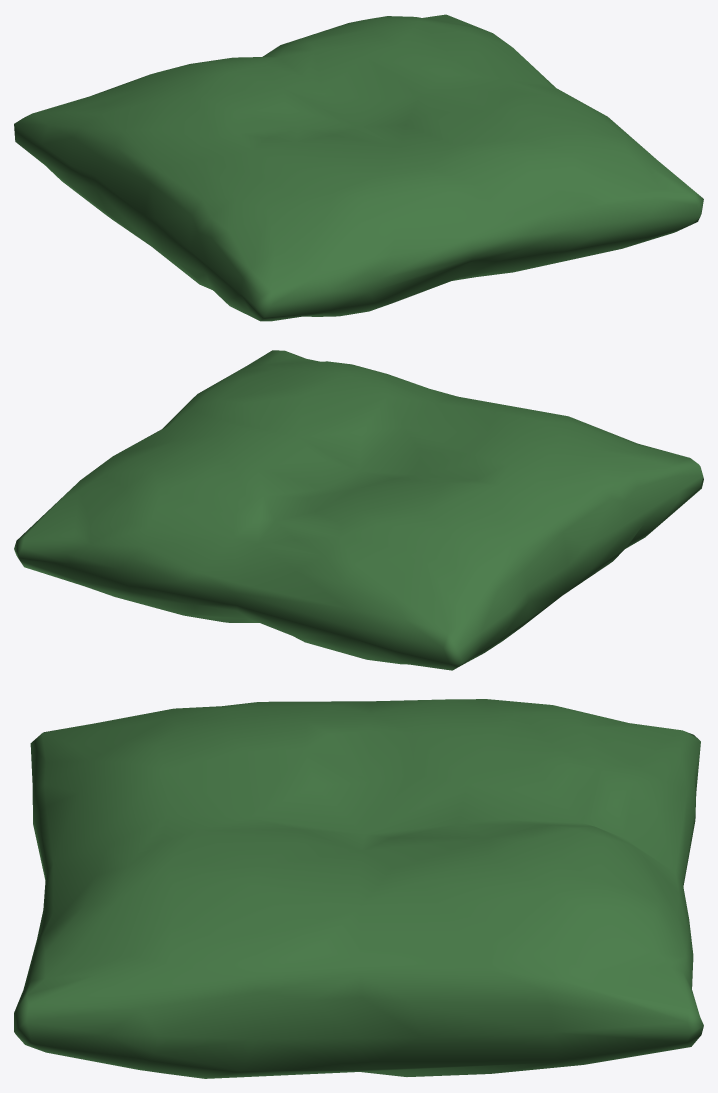
The model's file is SM_Bed_02b.fbx.
3 views of the same model, one above another, from view 1: azimuth 30°, elevation 25°; view 2: azimuth 150°, elevation 25°; view 3: azimuth 270°, elevation 25° (orthographic). The views are drawn at different scales.
Parts seen in each view (by area): view 1: SM_Bed_02b; view 2: SM_Bed_02b; view 3: SM_Bed_02b.
Boxes of the visible parts, x1,y1,x2,y2 form: SM_Bed_02b: (14,14,703,321); SM_Bed_02b: (14,350,703,670); SM_Bed_02b: (14,699,703,1078).
Bounding box in the file's own units: 61.77 × 17.5 × 62.37.
